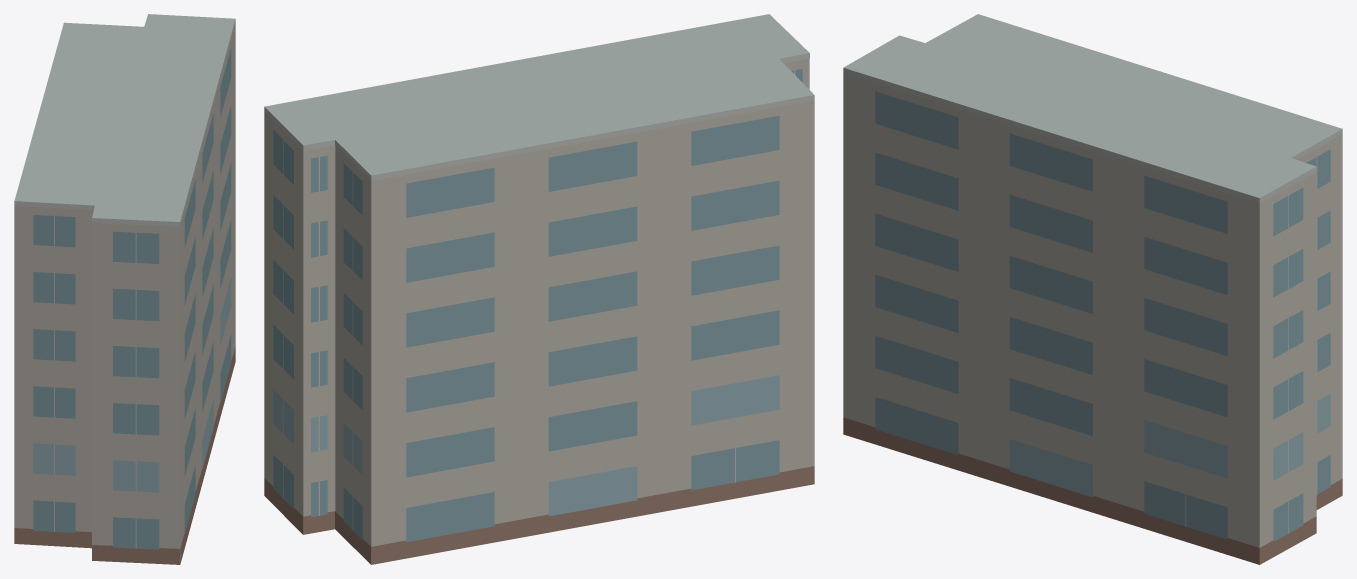
The model's file is survey-upis-32630777.glb.
3 renders of one model, left to right at view 1: azimuth 30°, elevation 25°; view 2: azimuth 150°, elevation 25°; view 3: azimuth 270°, elevation 25°, orthographic. The views are drawn at different scales.
Parts seen in each view (by area): view 1: survey-upis-32630777.tmp; view 2: survey-upis-32630777.tmp; view 3: survey-upis-32630777.tmp.
Part boxes in pixels (bbox=[...]): survey-upis-32630777.tmp: bbox=[14, 14, 235, 564]; survey-upis-32630777.tmp: bbox=[264, 14, 814, 564]; survey-upis-32630777.tmp: bbox=[843, 14, 1342, 564].
Size of the model in its own units: 18.96 by 17.6 by 21.73.
